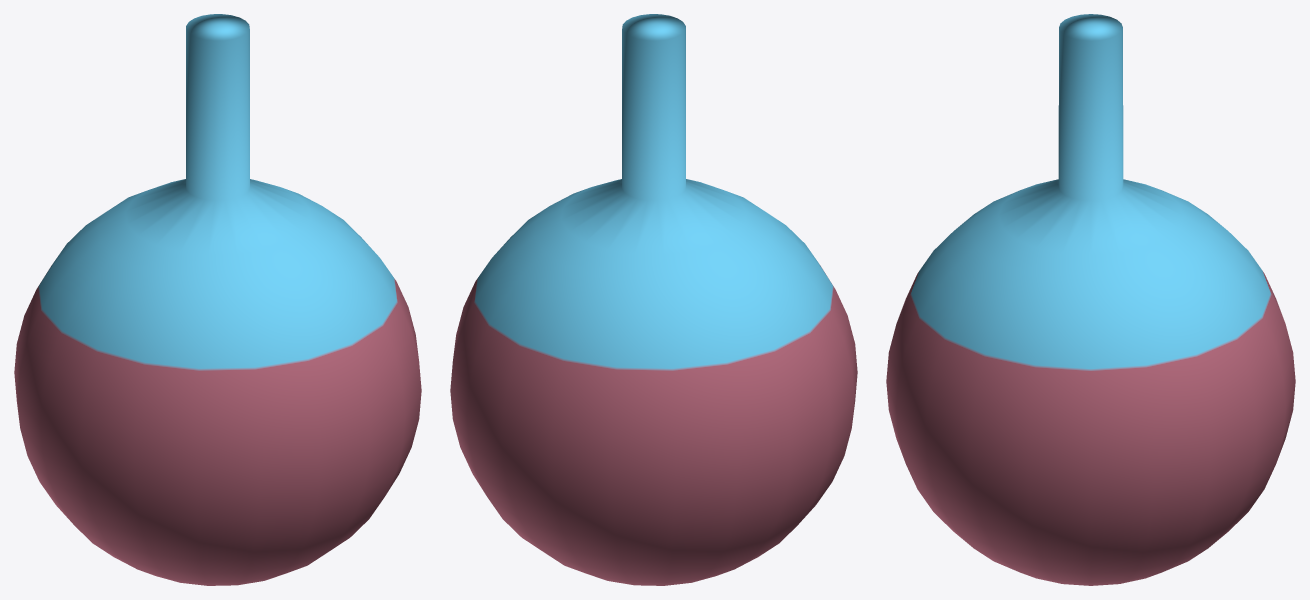
Rendered from Health Potion.fbx.
The picture shows the model from 3 angles, left to right: view 1: azimuth 30°, elevation 25°; view 2: azimuth 150°, elevation 25°; view 3: azimuth 270°, elevation 25°; orthographic projection.
Parts seen in each view (by area): view 1: pSphere1; view 2: pSphere1; view 3: pSphere1.
Boxes of the visible parts, x1,y1,x2,y2 form: pSphere1: [14, 14, 421, 585]; pSphere1: [450, 14, 857, 585]; pSphere1: [886, 14, 1295, 585].
Bounding box in the file's own units: 2 × 2.92 × 2.
